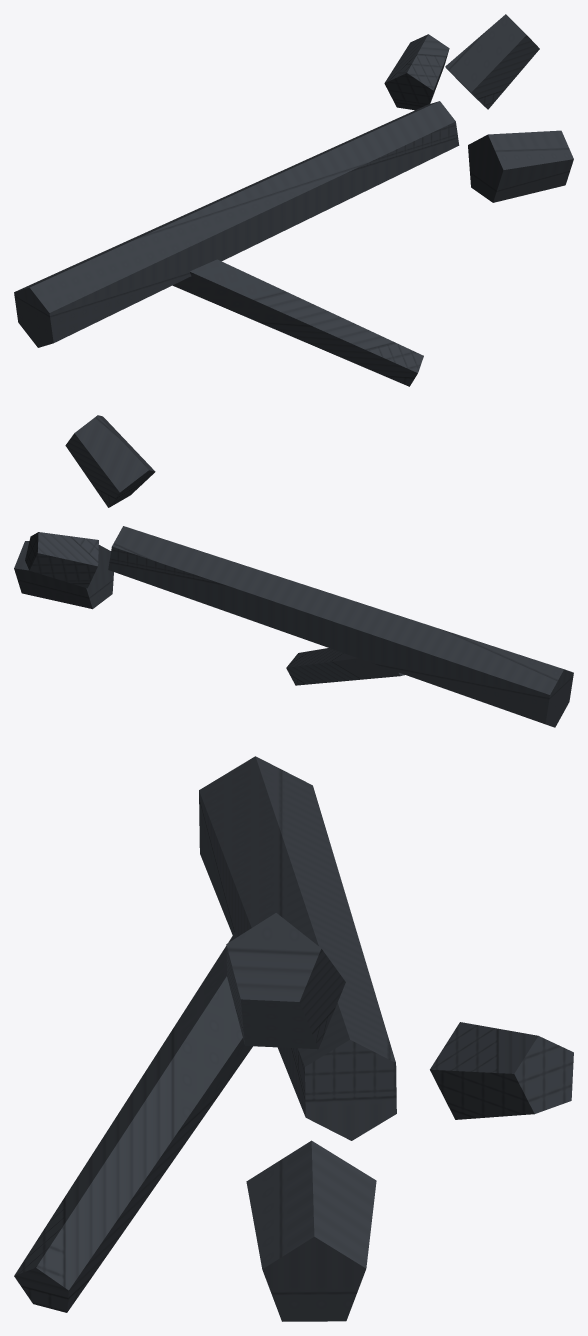
The model's file is frag_strut_shard.glb.
The picture shows the model from 3 angles, top to bottom: view 1: azimuth 30°, elevation 25°; view 2: azimuth 150°, elevation 25°; view 3: azimuth 270°, elevation 25°; orthographic projection. The views are drawn at different scales.
Visible parts, largest first — view 1: strutMain, strutSide, strutFray_rib0, strutFray_rib2, strutFray_rib1; view 2: strutMain, strutFray_rib2, strutFray_rib1, strutFray_rib0, strutSide; view 3: strutMain, strutSide, strutFray_rib0, strutFray_rib2, strutFray_rib1.
Boxes of the visible parts, x1,y1,x2,y2 form: strutMain: (14,101,459,347); strutSide: (172,259,423,386); strutFray_rib0: (468,130,573,202); strutFray_rib2: (445,14,539,109); strutFray_rib1: (384,34,449,110); strutMain: (108,526,573,727); strutFray_rib2: (65,415,155,507); strutFray_rib1: (25,532,98,588); strutFray_rib0: (14,541,113,609); strutSide: (286,648,404,685); strutMain: (199,756,396,1140); strutSide: (14,932,252,1312); strutFray_rib0: (246,1140,376,1321); strutFray_rib2: (226,913,345,1049); strutFray_rib1: (430,1022,573,1119).
Bounding box in the file's own units: 11 × 5.49 × 5.17.
1 material, 1 textured.
